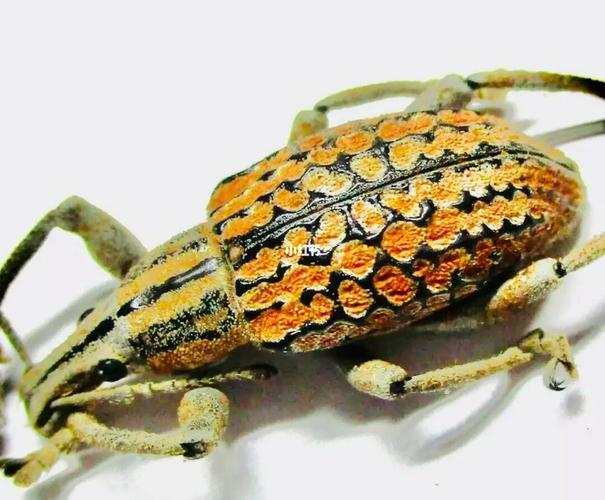Curculionidae: (1, 67, 605, 490)
